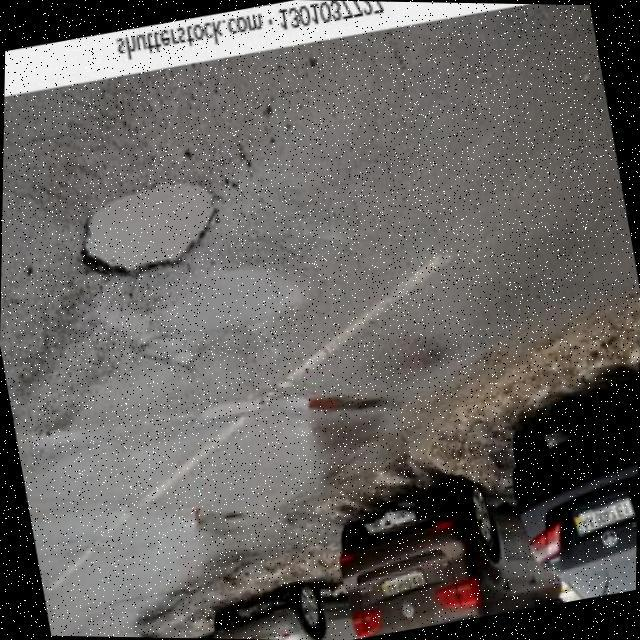Pothole: (81, 180, 214, 273)
